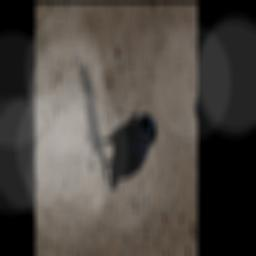Crow: (80, 106, 165, 197)
